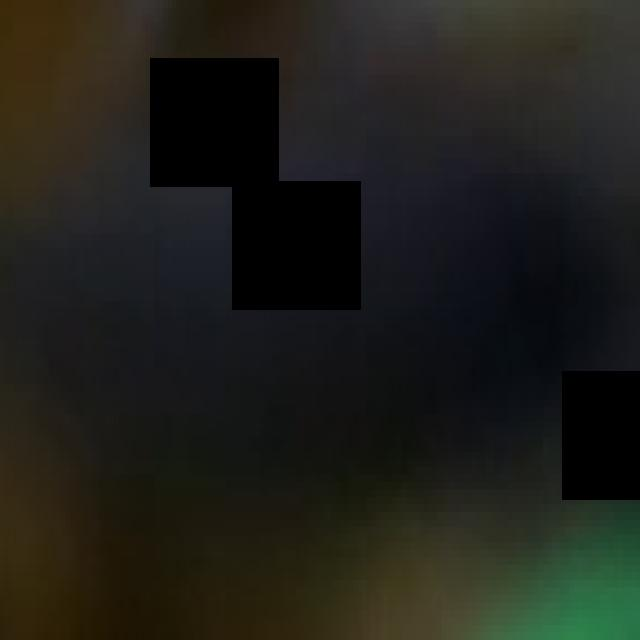fish: (4, 7, 639, 640)
